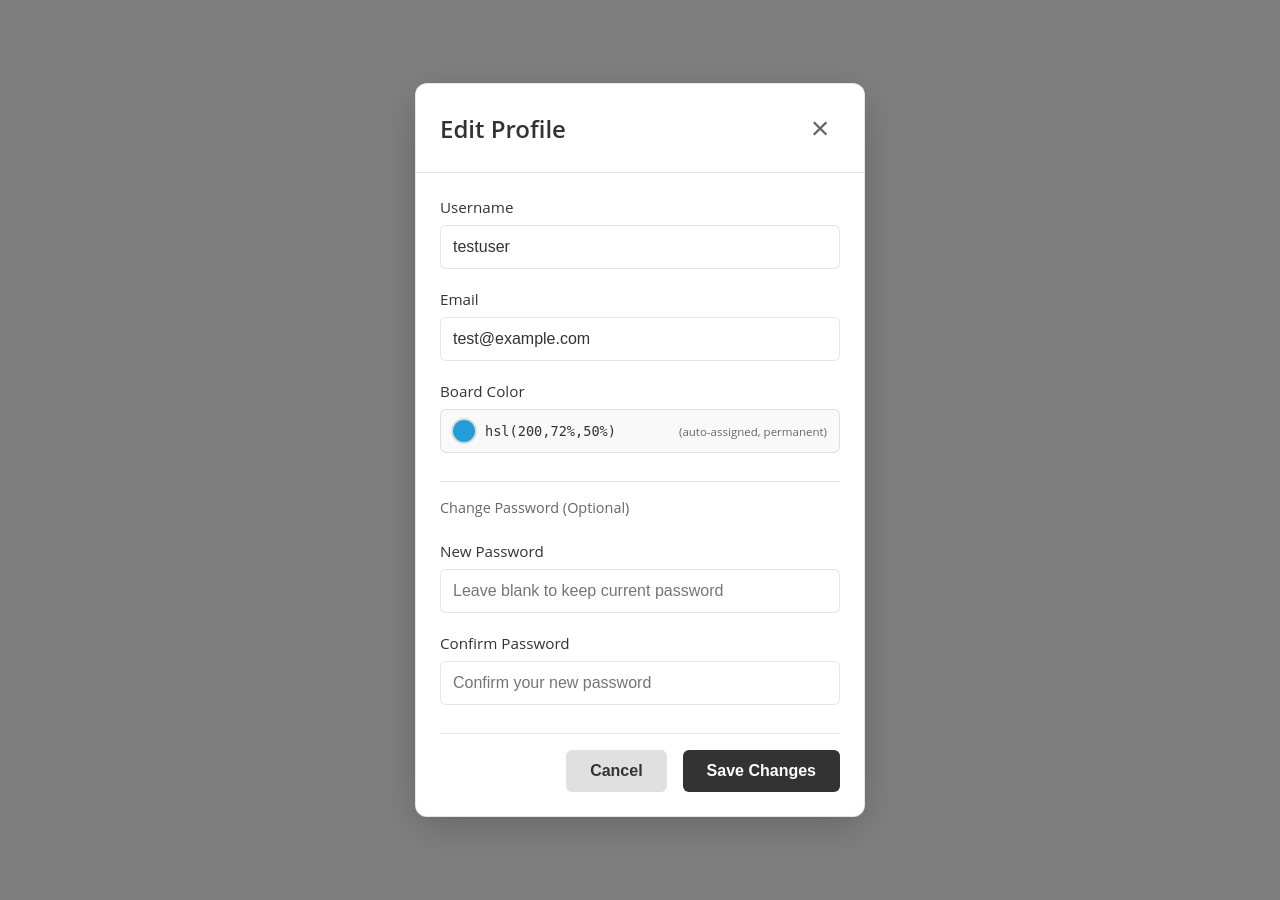
Test case: EditProfileModal › validates password confirmation matches
The width and height of the screenshot is (1280, 900).
Type "newpassword123" into the password field labelled "New Password". click: coordinates (640, 591)
box: [440,569,840,613]
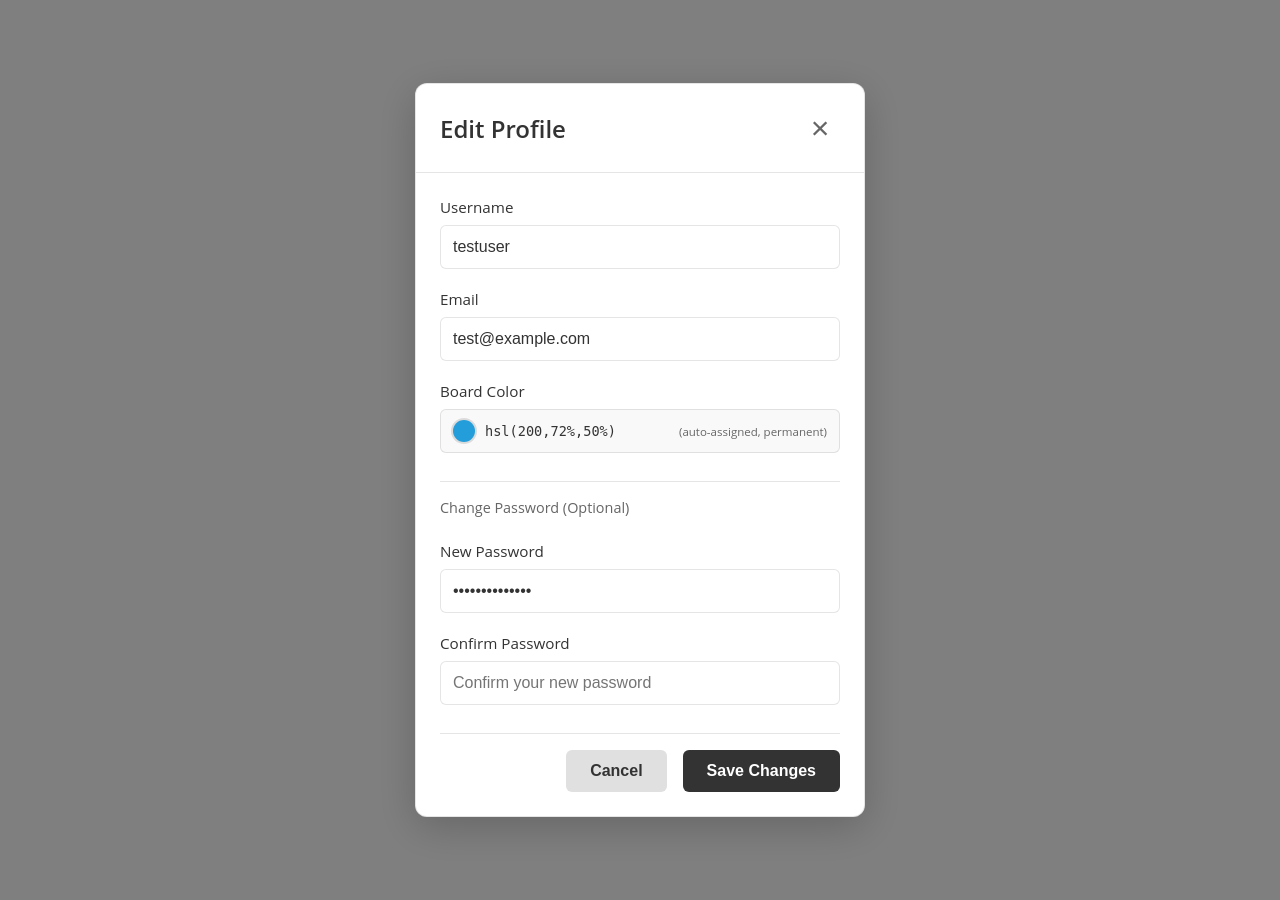
Type "differentpassword" into the password field labelled "Confirm Password". click: coordinates (640, 683)
box: [440,661,840,705]
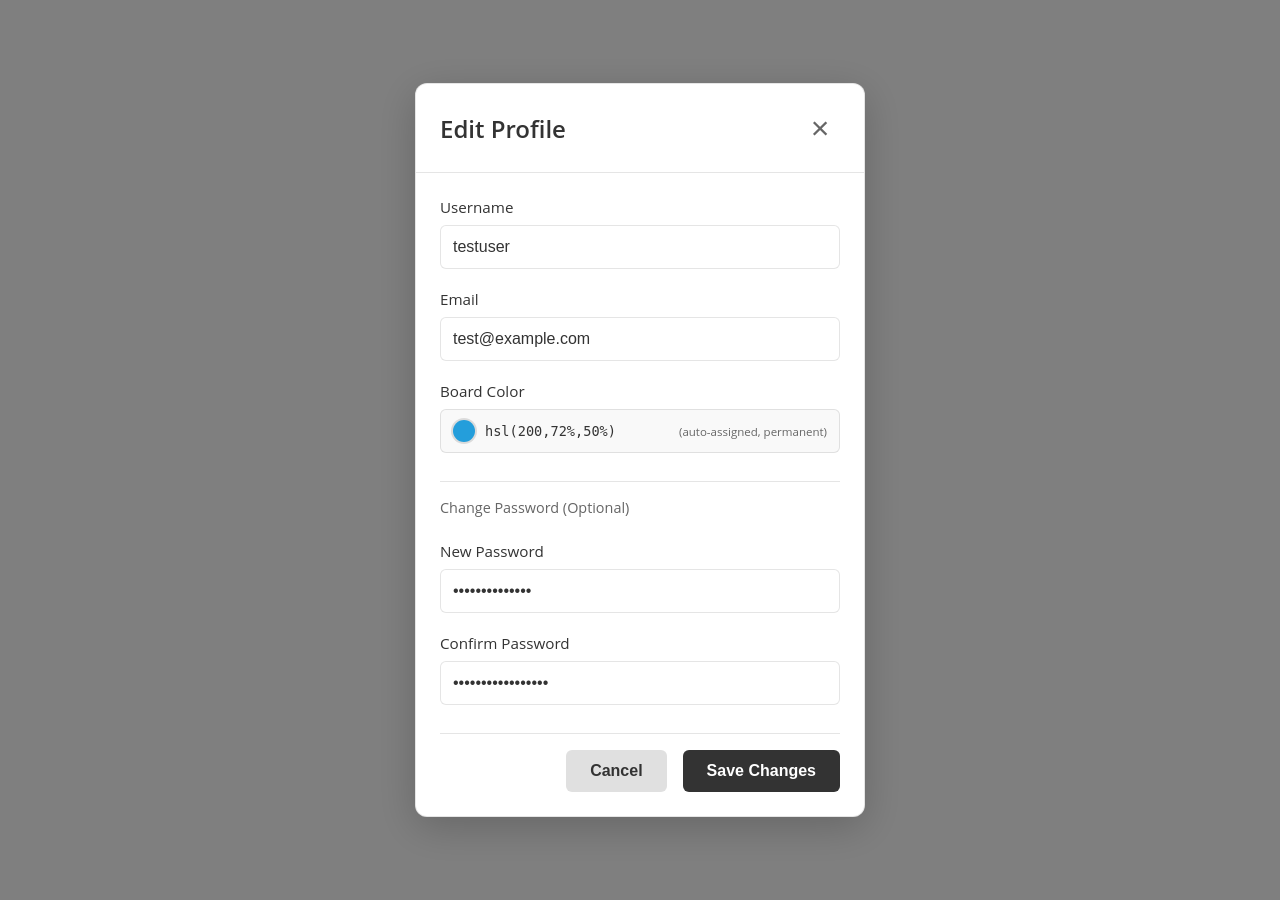
Click the button "Save Changes". click: coordinates (761, 771)
box: [683,750,840,792]
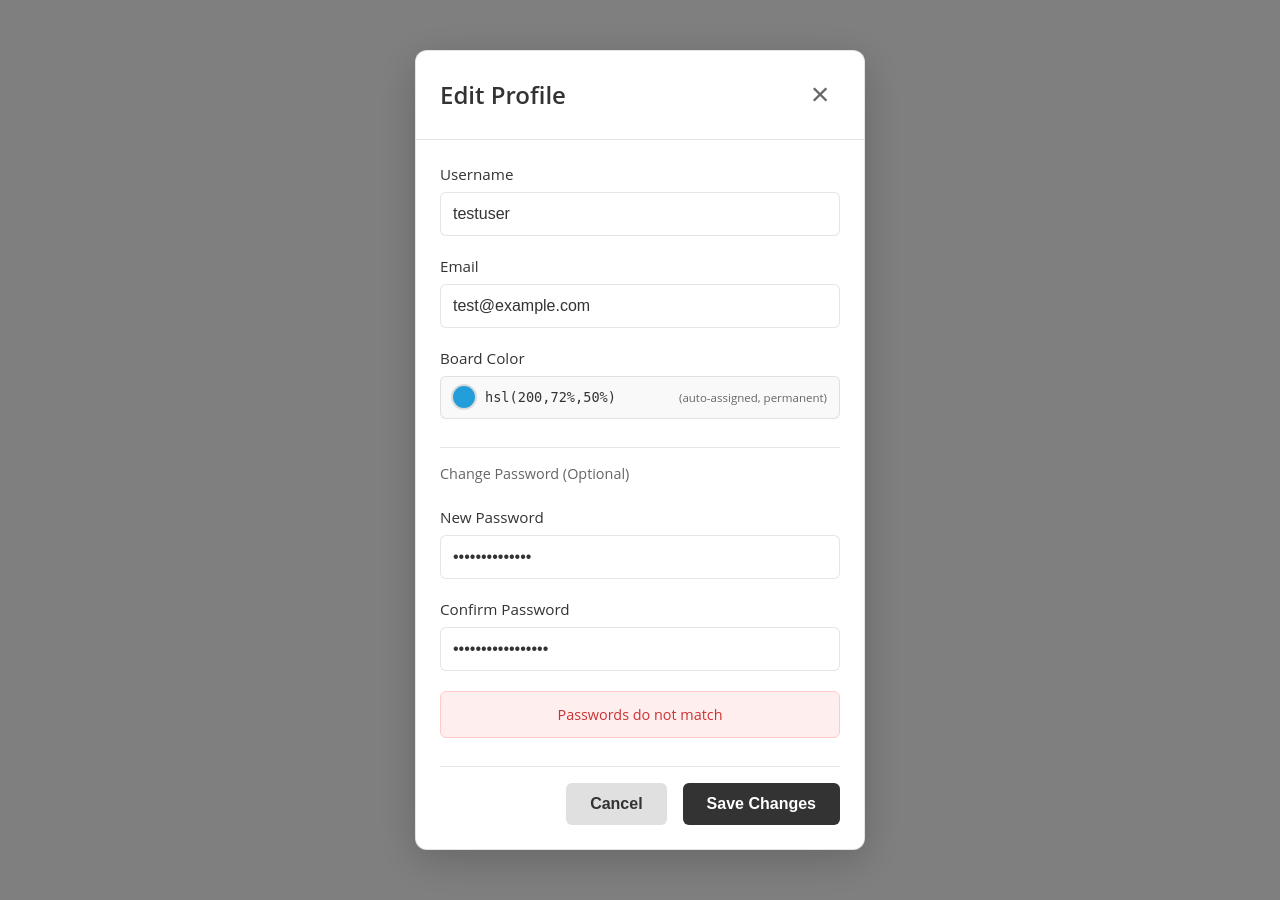
Check: the text "Passwords do not match" is shown, box [440,691,840,738]
